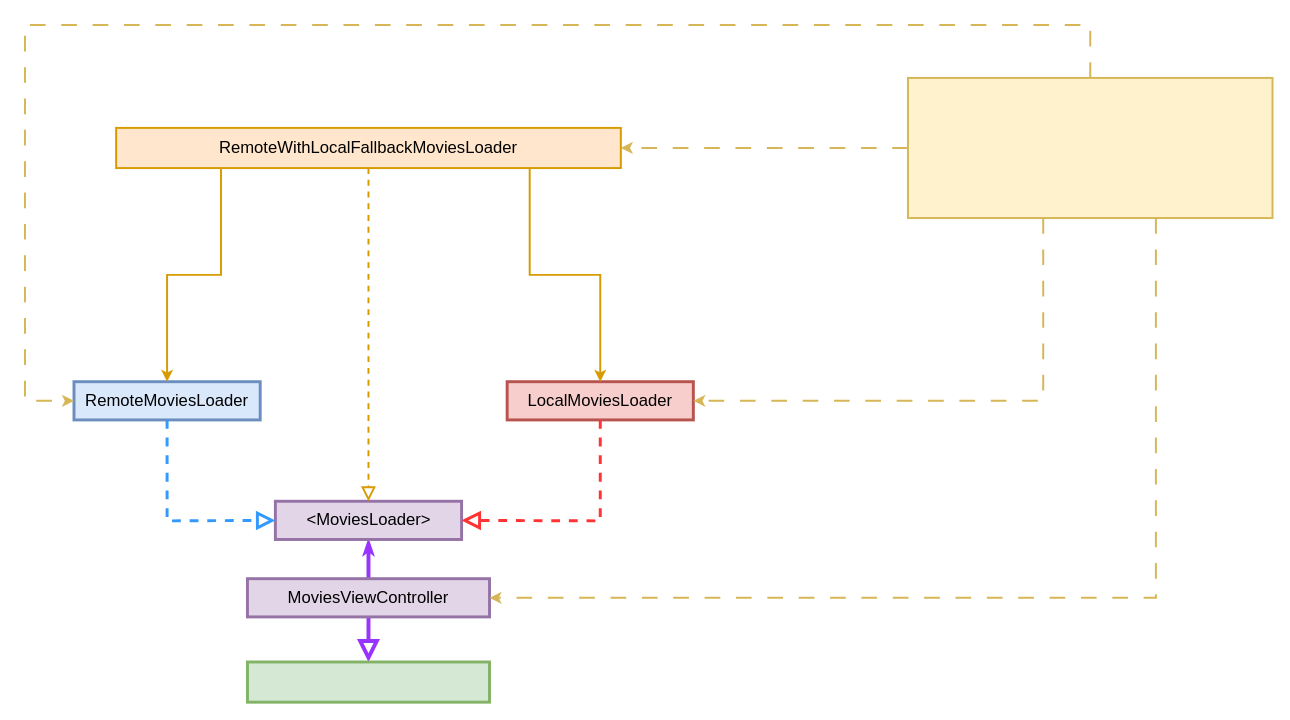
This 1290x720 diagram has some shape labels left out. Each missing label, with the centre of its shape:
"Movies Assembler/Factory" goes at point 1089,147.
"UIViewController" goes at point 367,681.
